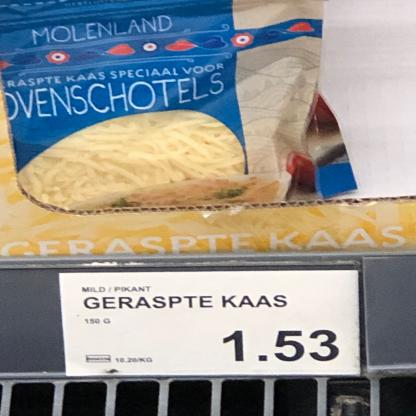prtg: (59, 272, 361, 378)
